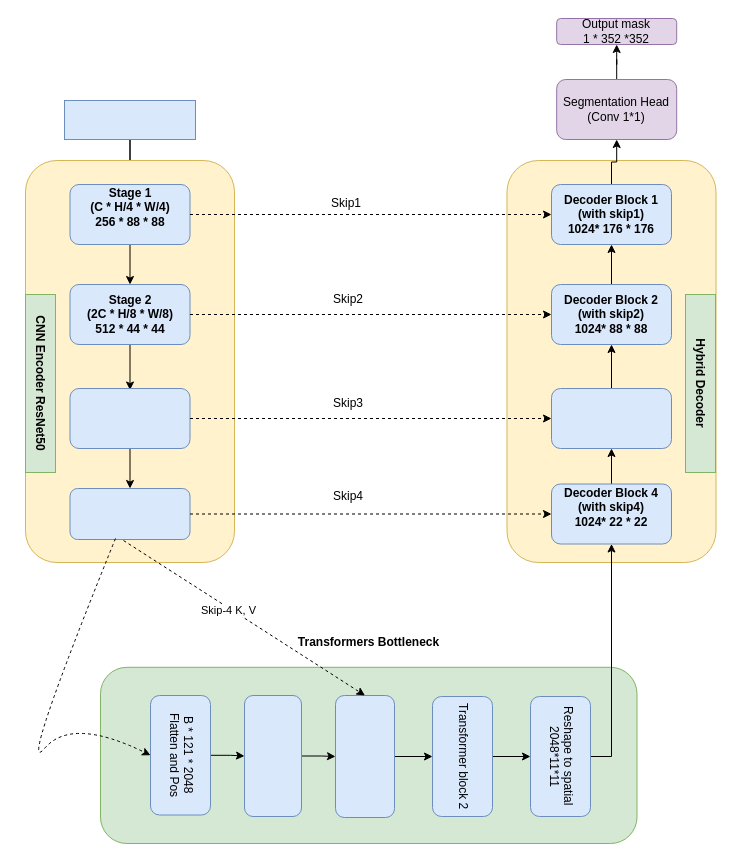
Some shapes in this 740 by 861 pixel diagram are drawn without their labels. The shapes that lost their labels are listed below. From the top down, each one's box as (x1, y1, x2, y2) in pixels, then its label:
(64, 100, 196, 140): Input Image (3 * 352 *352)
(69, 388, 190, 448): Stage 3 (4C * H/16 * W/16) 1024 * 22 * 22
(550, 388, 672, 448): Decoder Block 3 (with skip3) 1024* 44 * 44
(69, 488, 190, 540): Stage 4 (8C * H/32 * W/32) 2048 * 11 * 11
(244, 694, 302, 816): Transformer Block 1
(334, 694, 394, 818): Cross Attention Block
